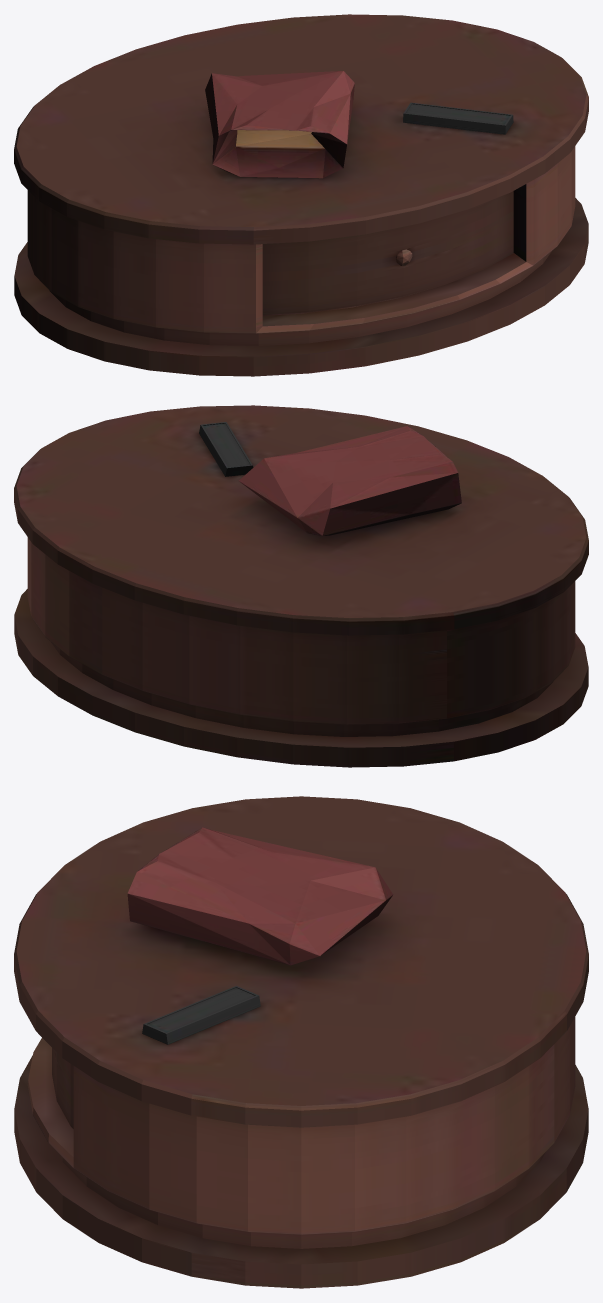
File: Table_petite.fbx
3 renders of one model, top to bottom at view 1: azimuth 30°, elevation 25°; view 2: azimuth 150°, elevation 25°; view 3: azimuth 270°, elevation 25°, orthographic. The views are drawn at different scales.
Visible parts, largest first — view 1: Cylinder; view 2: Cylinder; view 3: Cylinder.
Boxes of the visible parts, x1,y1,x2,y2 form: Cylinder: (14, 14, 588, 376); Cylinder: (14, 405, 588, 767); Cylinder: (14, 796, 588, 1288).
Bounding box in the file's own units: 200 × 72.42 × 156.
